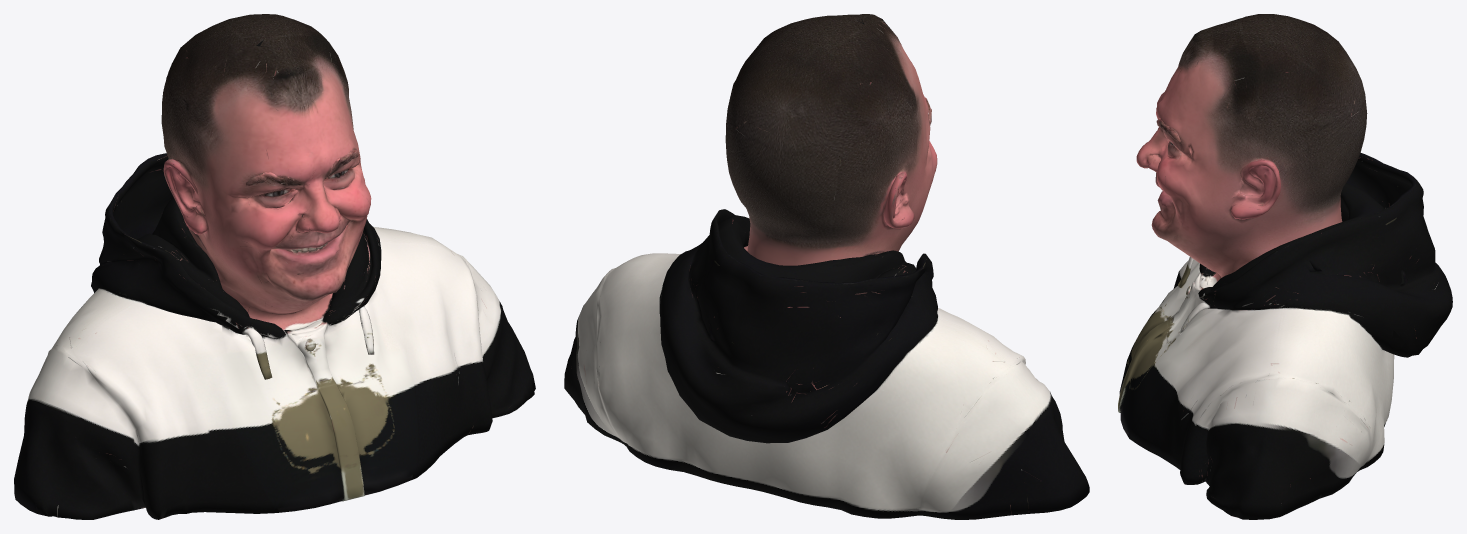
Rendered from head2.glb.
The picture shows the model from 3 angles, left to right: view 1: azimuth 30°, elevation 25°; view 2: azimuth 150°, elevation 25°; view 3: azimuth 270°, elevation 25°; orthographic projection. The views are drawn at different scales.
Size of the model in its own units: 0.9531 by 0.7559 by 0.5991.
Materials: 1 (1 with a texture image).
